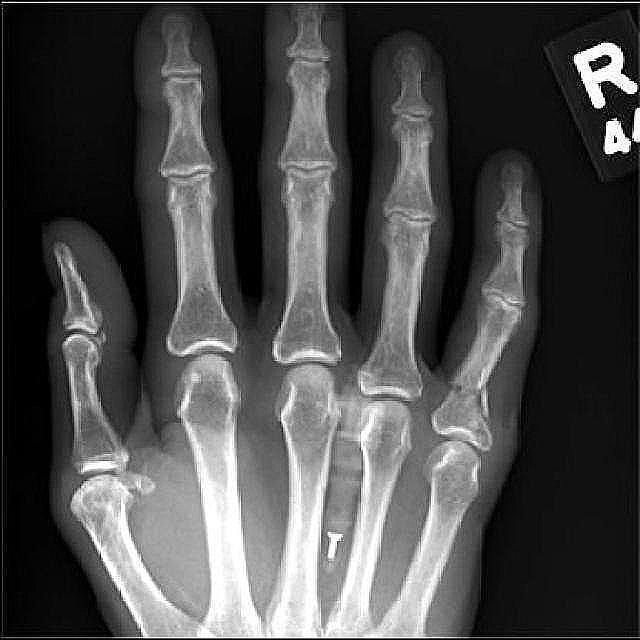bone: (440, 361, 492, 421)
